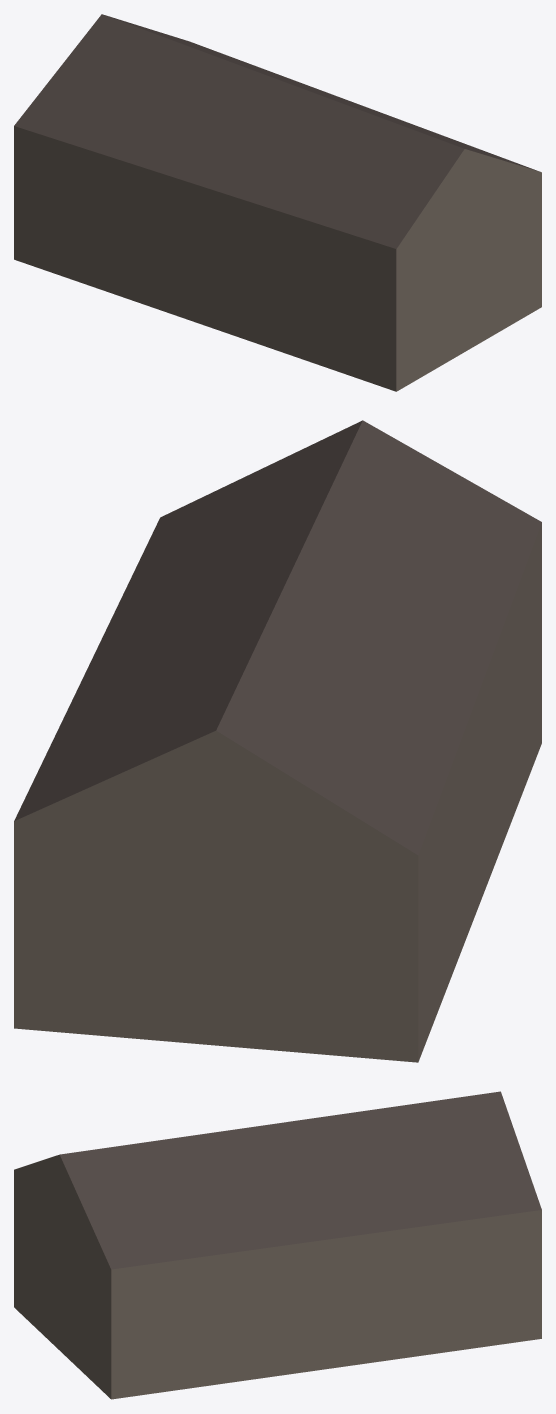
3 views of the same model, one above another, from view 1: azimuth 30°, elevation 25°; view 2: azimuth 150°, elevation 25°; view 3: azimuth 270°, elevation 25° (orthographic). The views are drawn at different scales.
Parts seen in each view (by area): view 1: HP-w1516161967; view 2: HP-w1516161967; view 3: HP-w1516161967.
Boxes of the visible parts, <box> form: HP-w1516161967: <box>14,14,541,391</box>; HP-w1516161967: <box>14,420,541,1062</box>; HP-w1516161967: <box>14,1091,541,1399</box>.
Bounding box in the file's own units: 16.31 × 9.12 × 22.27.
